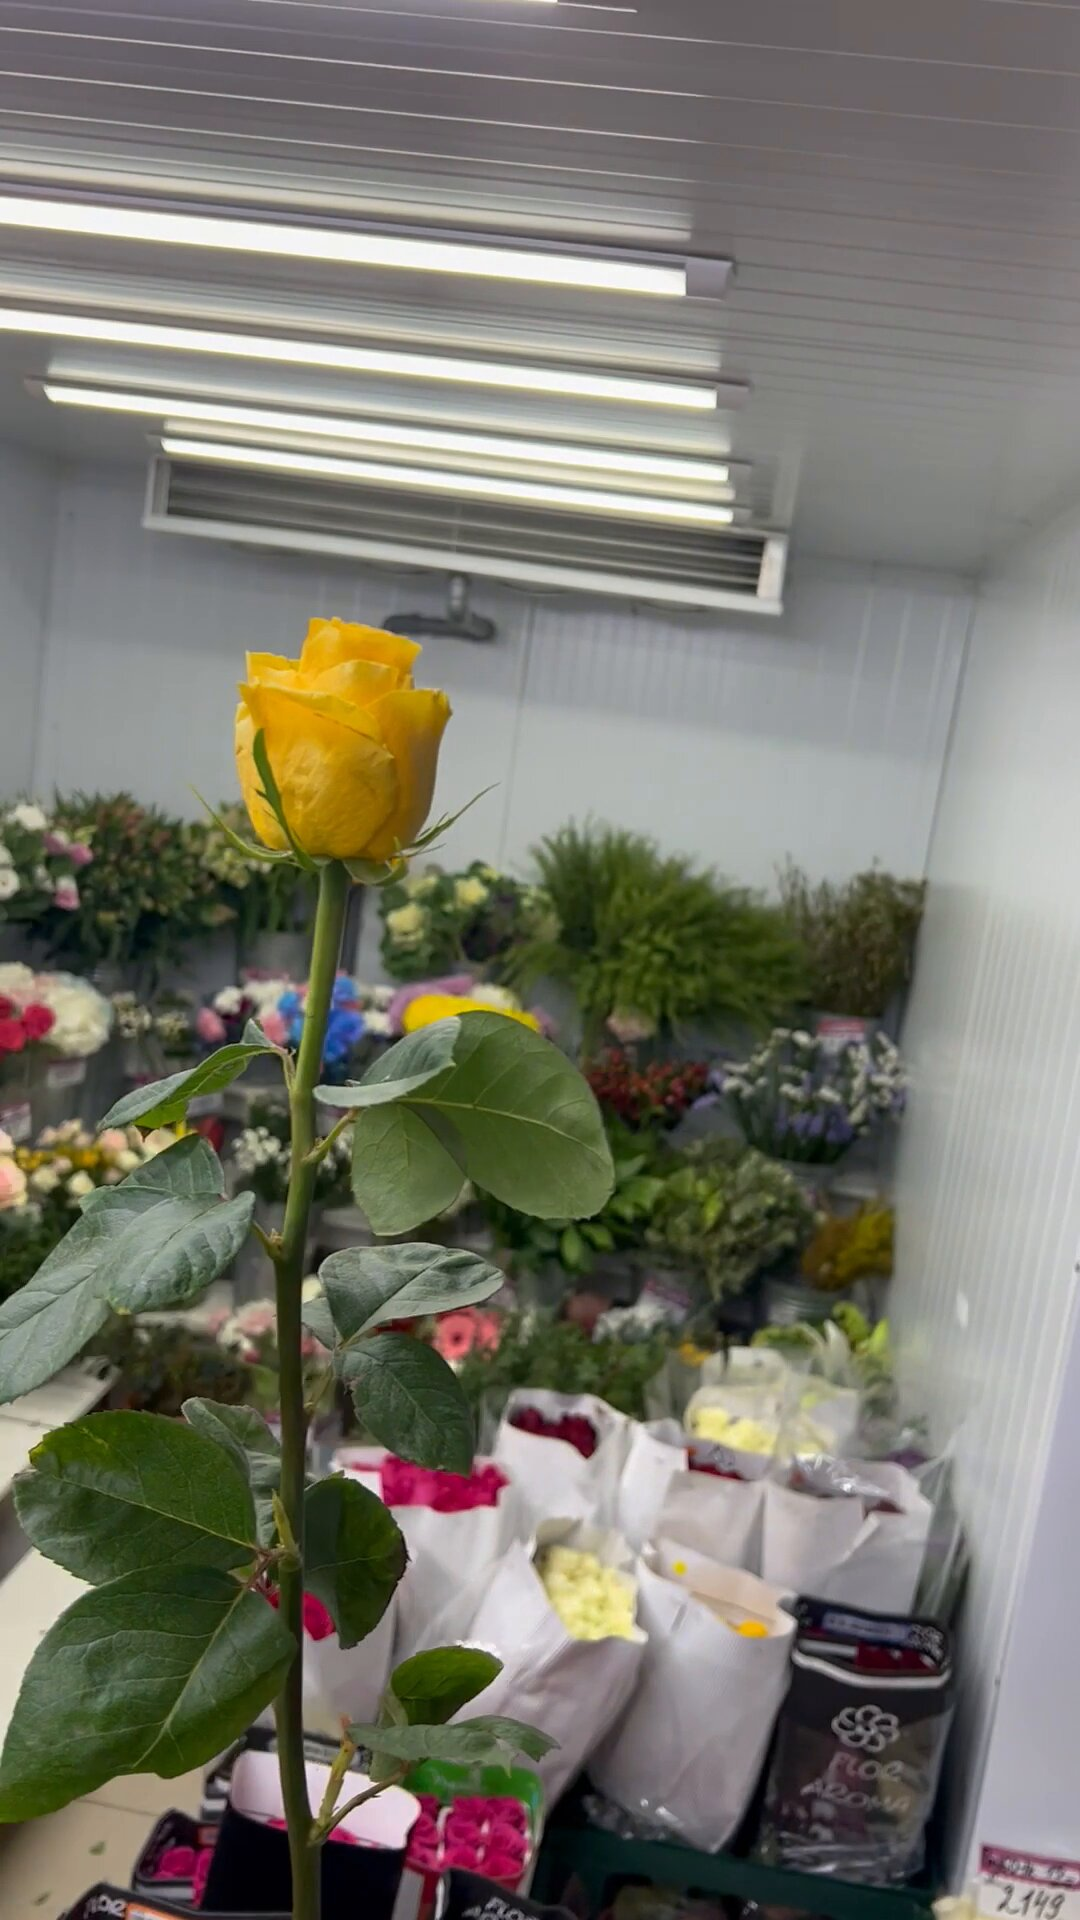rose: (54, 615, 600, 1920)
